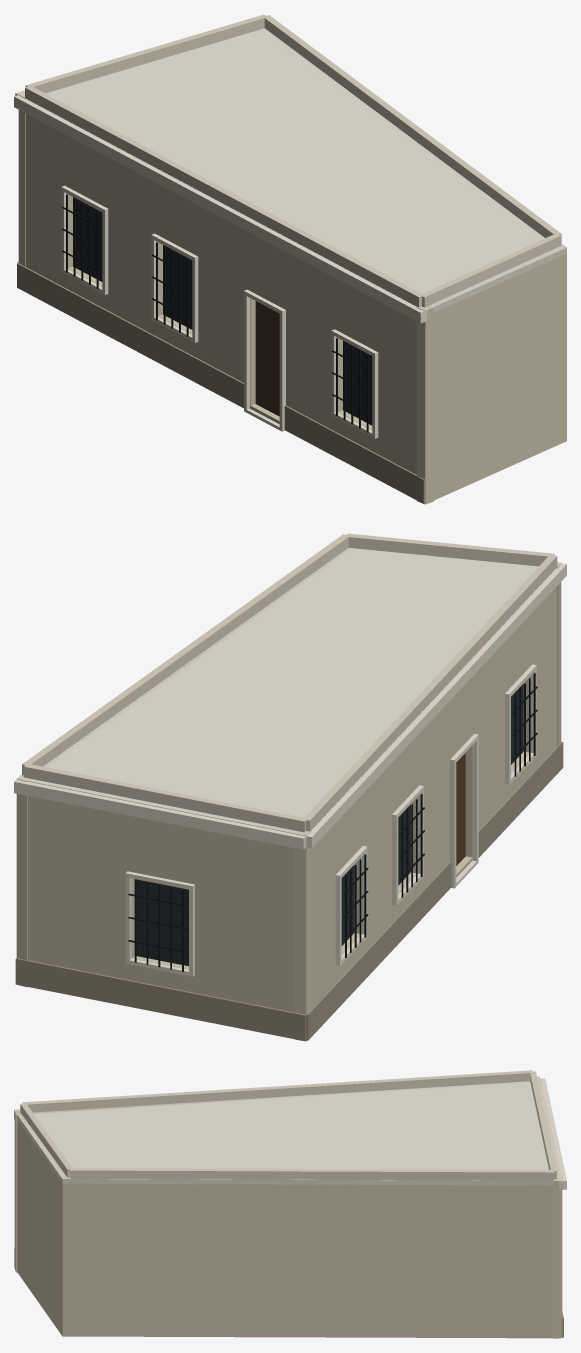
3 views of the same model, one above another, from view 1: azimuth 30°, elevation 25°; view 2: azimuth 150°, elevation 25°; view 3: azimuth 270°, elevation 25° (orthographic). The views are drawn at different scales.
Visible parts, largest first — view 1: edificio; view 2: edificio; view 3: edificio.
Part boxes in pixels (<box>): edificio: <box>14,14,566,504</box>; edificio: <box>14,533,566,1041</box>; edificio: <box>14,1070,566,1338</box>.
Bounding box in the file's own units: 5.73 × 4.21 × 12.73.
